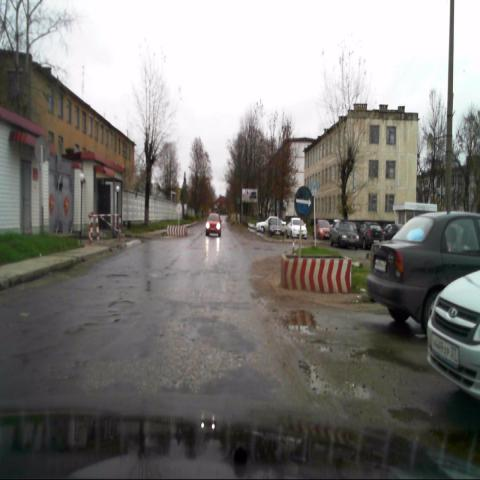4_1_2_1: (294, 186, 314, 219)
